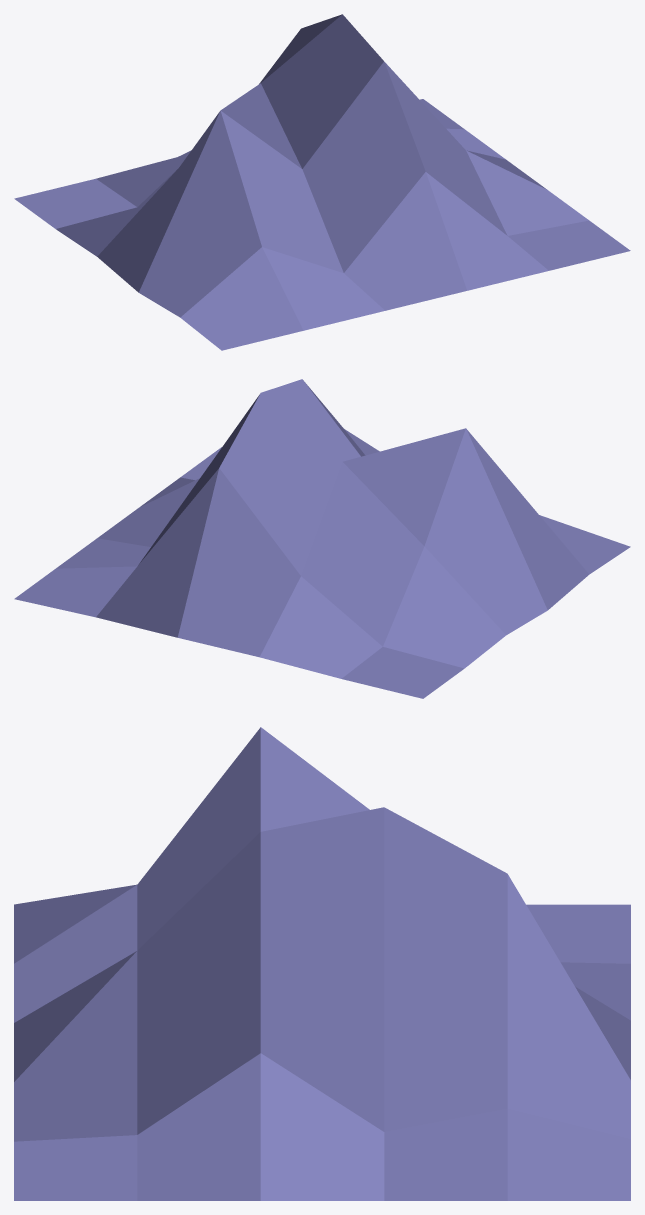
File: SM_Ground_01.fbx
3 views of the same model, one above another, from view 1: azimuth 30°, elevation 25°; view 2: azimuth 150°, elevation 25°; view 3: azimuth 270°, elevation 25° (orthographic). The views are drawn at different scales.
Visible parts, largest first — view 1: Plane001; view 2: Plane001; view 3: Plane001.
Boxes of the visible parts, x1,y1,x2,y2 form: Plane001: (14,14,630,350); Plane001: (14,379,630,698); Plane001: (14,727,630,1200).
Size of the model in its own units: 176 by 77.34 by 155.
